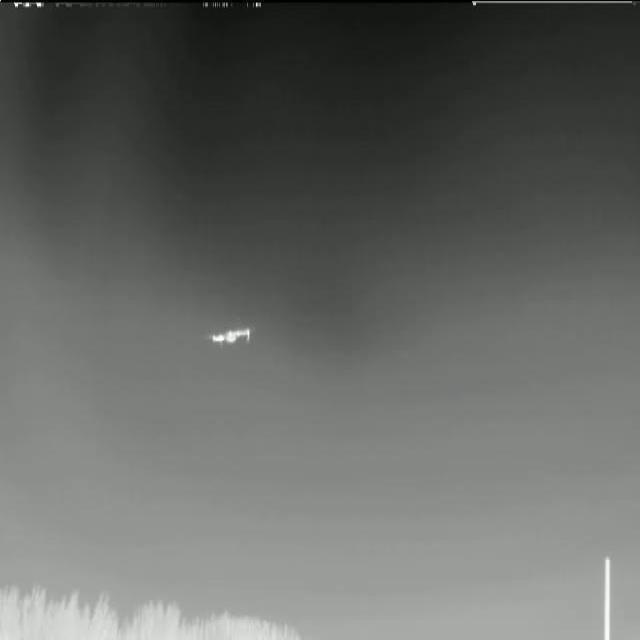DRONE: (202, 318, 262, 356)
